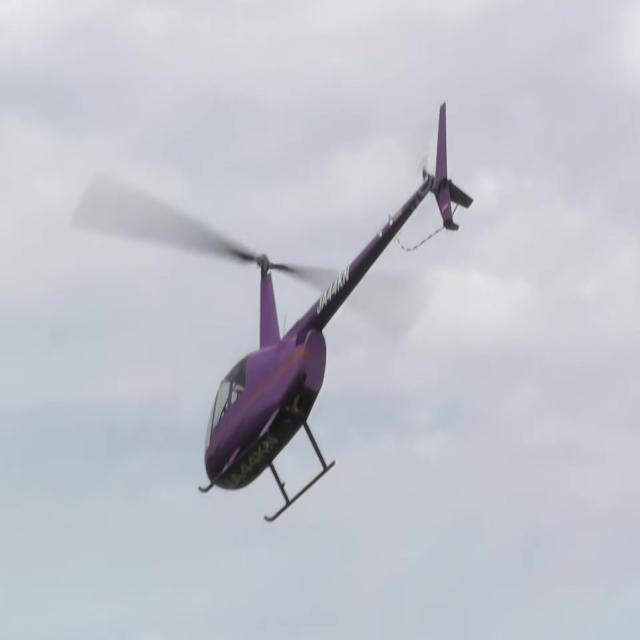CIV_HELO: (196, 99, 476, 527)
